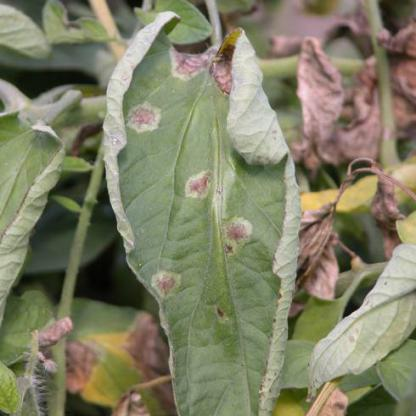tomato leaf late blight: (93, 4, 306, 414)
